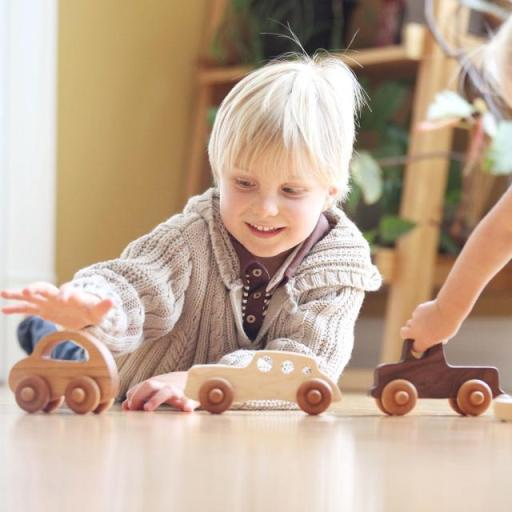baby: (0, 65, 370, 413), (400, 184, 512, 352)
